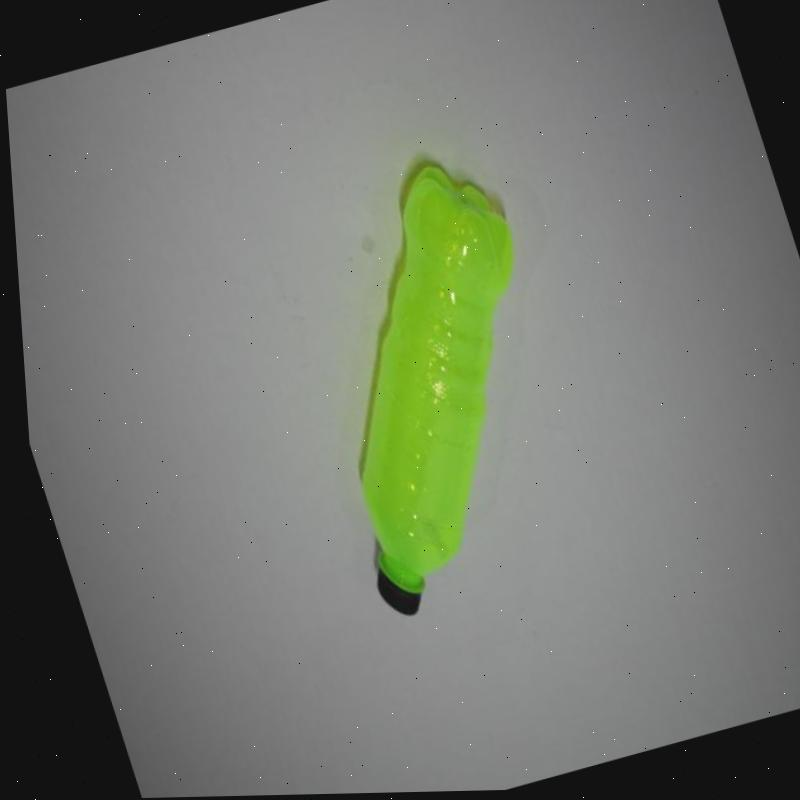botella: (250, 144, 610, 625)
